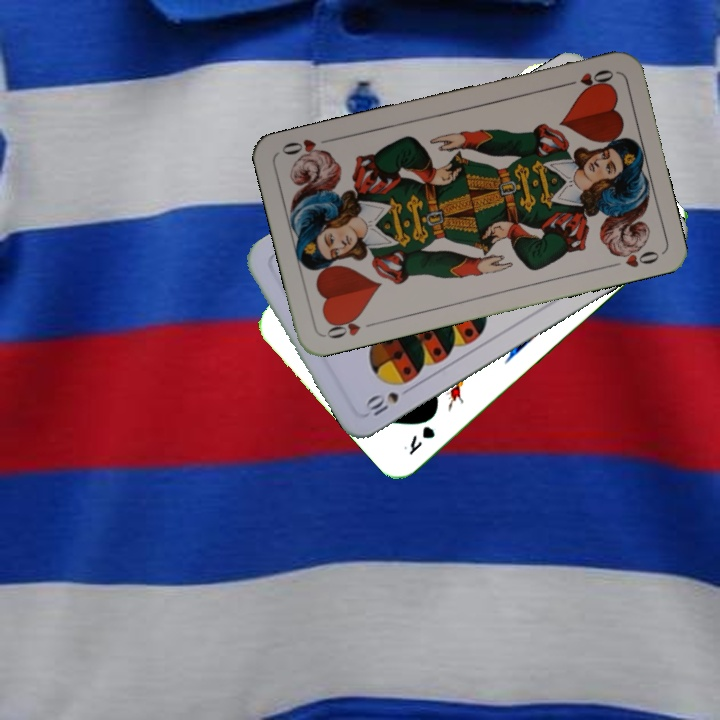GK: (404, 422, 438, 457)
HO: (321, 311, 379, 342), (559, 65, 617, 93)
S10: (361, 382, 416, 419)
